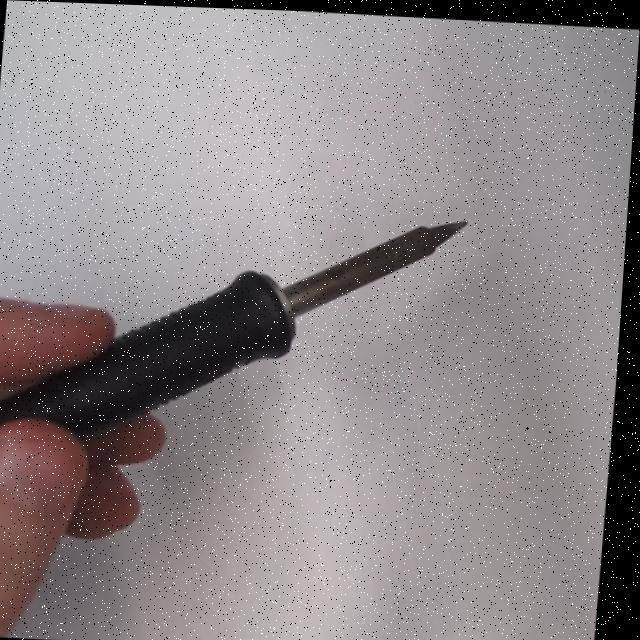soldering_iron: (0, 194, 469, 486)
